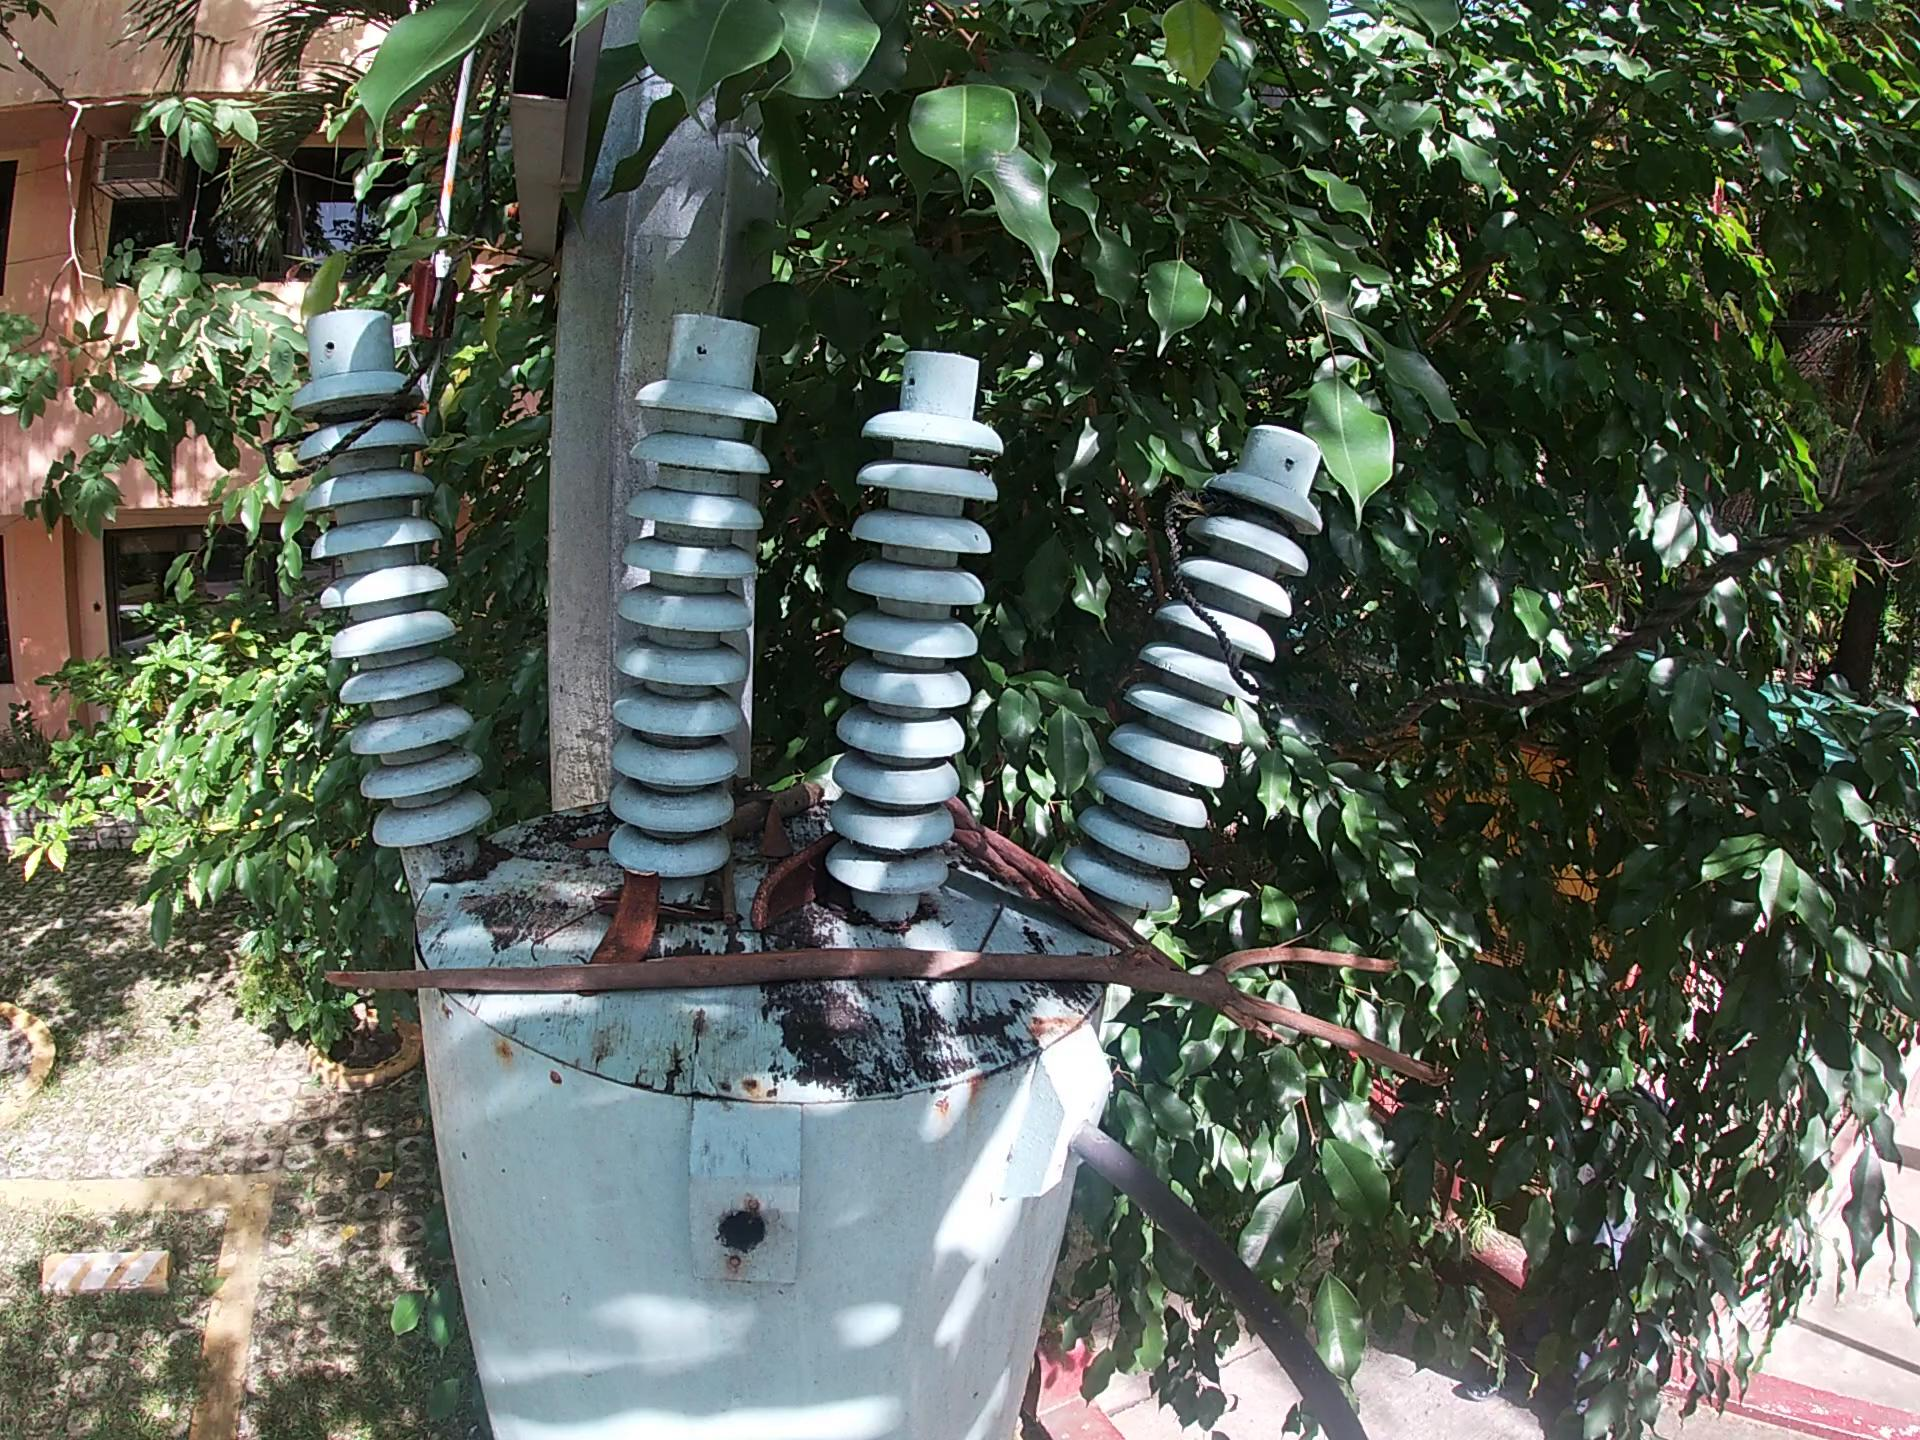leaf: (757, 796, 800, 865), (564, 827, 620, 858), (590, 882, 618, 929)
mahogany fruit: (742, 833, 845, 933), (582, 864, 665, 967)
tree branch: (311, 929, 1451, 1100), (946, 790, 1282, 1051), (720, 771, 751, 926), (735, 781, 827, 827)
